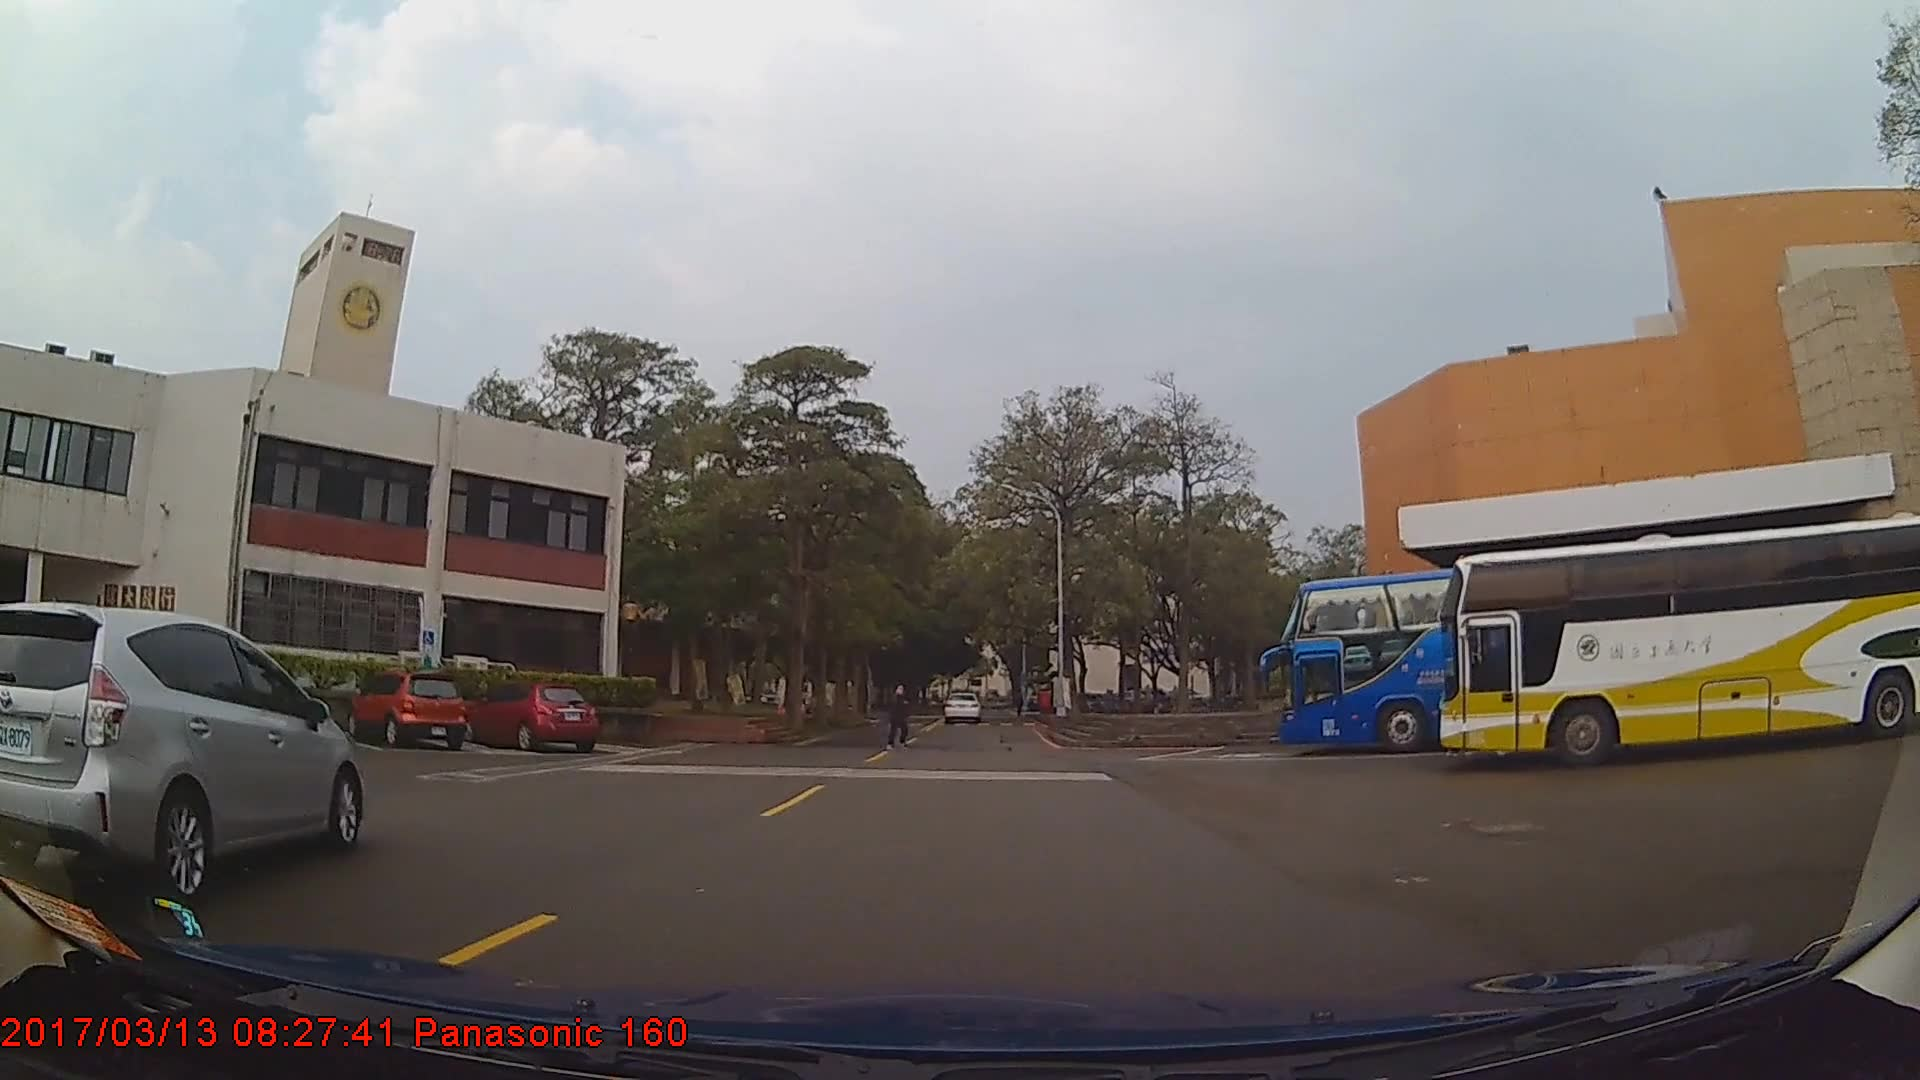pedestrian: (888, 682, 912, 750)
vehicle: (1440, 514, 1920, 769), (1282, 557, 1889, 756), (0, 602, 364, 892), (463, 679, 601, 753), (348, 671, 467, 748), (943, 690, 981, 725)
